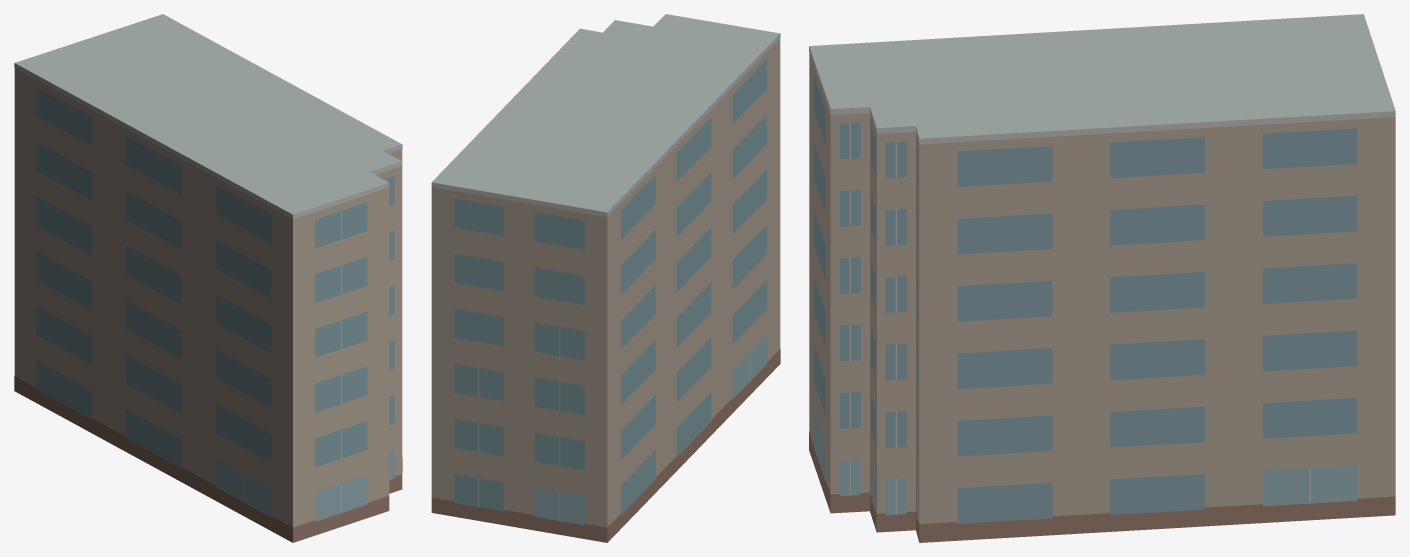
The model's file is survey-upis-32725847.glb.
3 views of the same model, side by side, from view 1: azimuth 30°, elevation 25°; view 2: azimuth 150°, elevation 25°; view 3: azimuth 270°, elevation 25° (orthographic). The views are drawn at different scales.
Parts seen in each view (by area): view 1: survey-upis-32725847.tmp; view 2: survey-upis-32725847.tmp; view 3: survey-upis-32725847.tmp.
Boxes of the visible parts, <box> form: survey-upis-32725847.tmp: <box>14,14,402,542</box>; survey-upis-32725847.tmp: <box>431,14,780,542</box>; survey-upis-32725847.tmp: <box>809,14,1395,542</box>.
Size of the model in its own units: 11.26 by 17 by 22.37.
